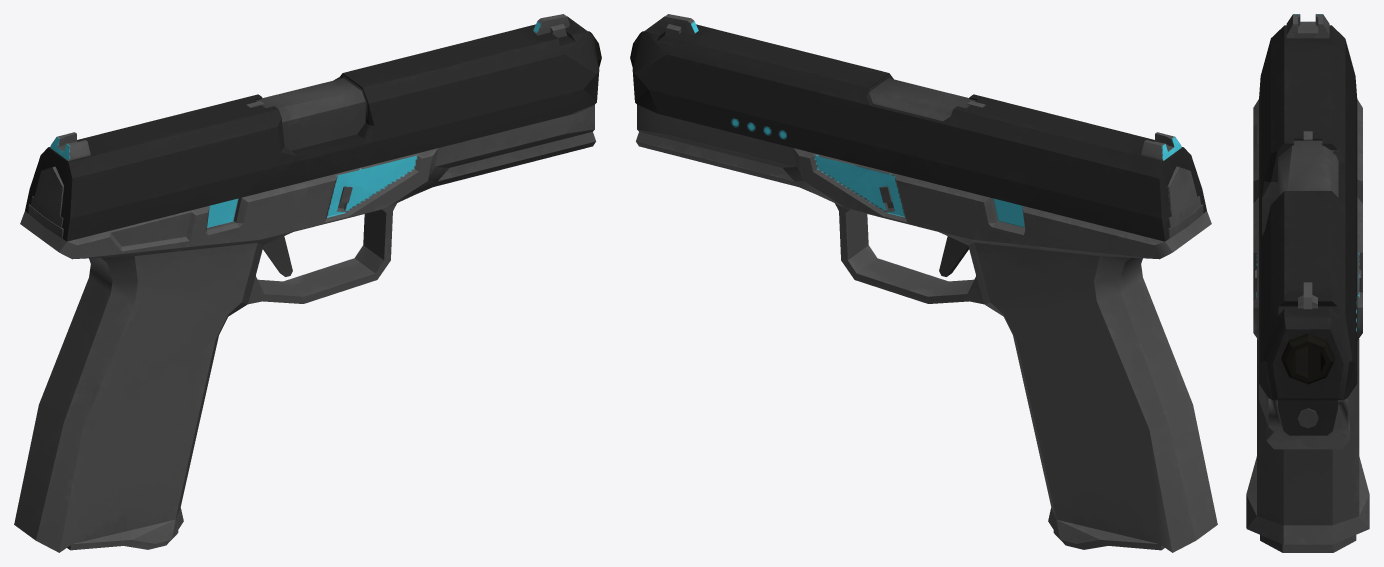
Rendered from PistolFlip111.fbx.
3 views of the same model, side by side, from view 1: azimuth 30°, elevation 25°; view 2: azimuth 150°, elevation 25°; view 3: azimuth 270°, elevation 25° (orthographic). The views are drawn at different scales.
Visible parts, largest first — view 1: Pistol 1; view 2: Pistol 1; view 3: Pistol 1.
Part boxes in pixels (left/top/right/bottom): Pistol 1: left=14, top=14, right=601, bottom=552; Pistol 1: left=630, top=14, right=1217, bottom=552; Pistol 1: left=1246, top=14, right=1369, bottom=552.
Size of the model in its own units: 16.31 by 11.37 by 2.62.
